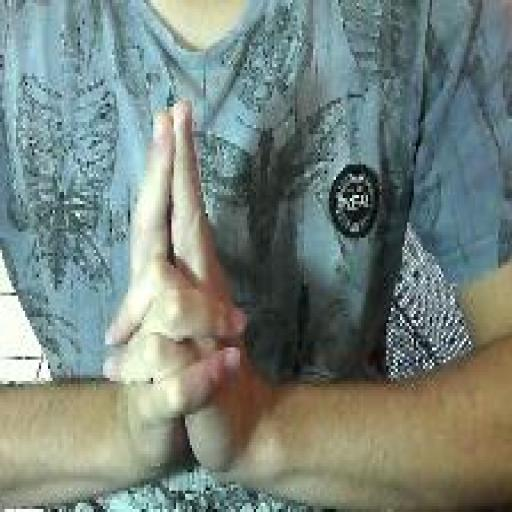Tora -tiger-: (100, 94, 252, 494)
